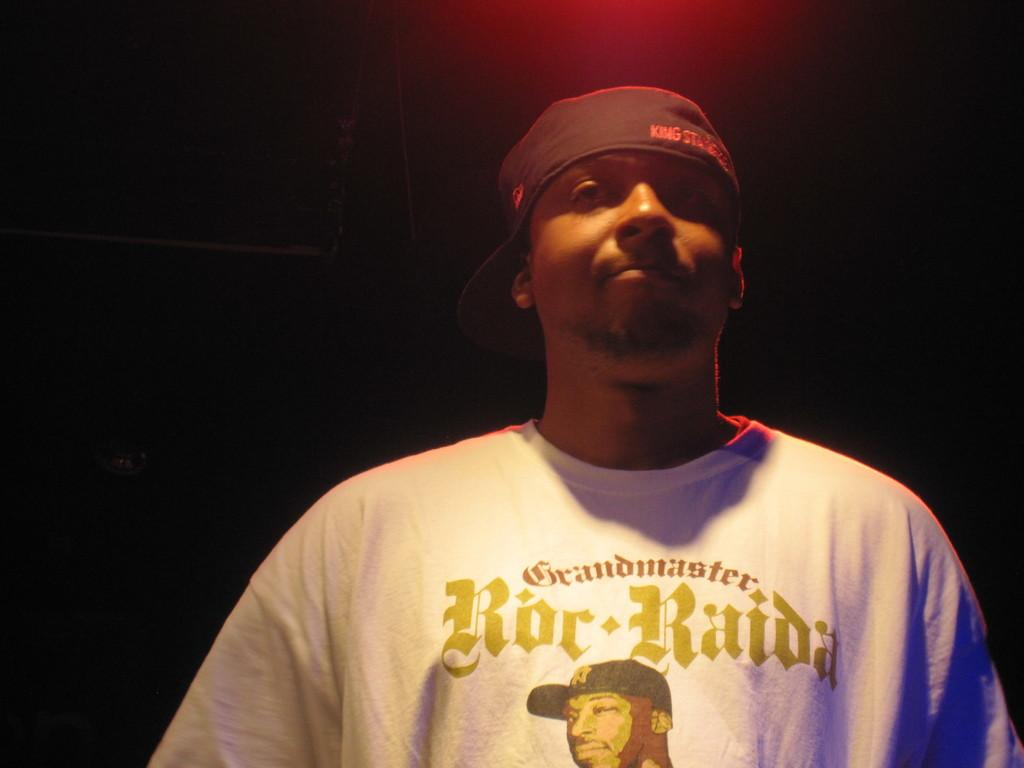Hat: (454, 85, 744, 364), (526, 661, 673, 721)
